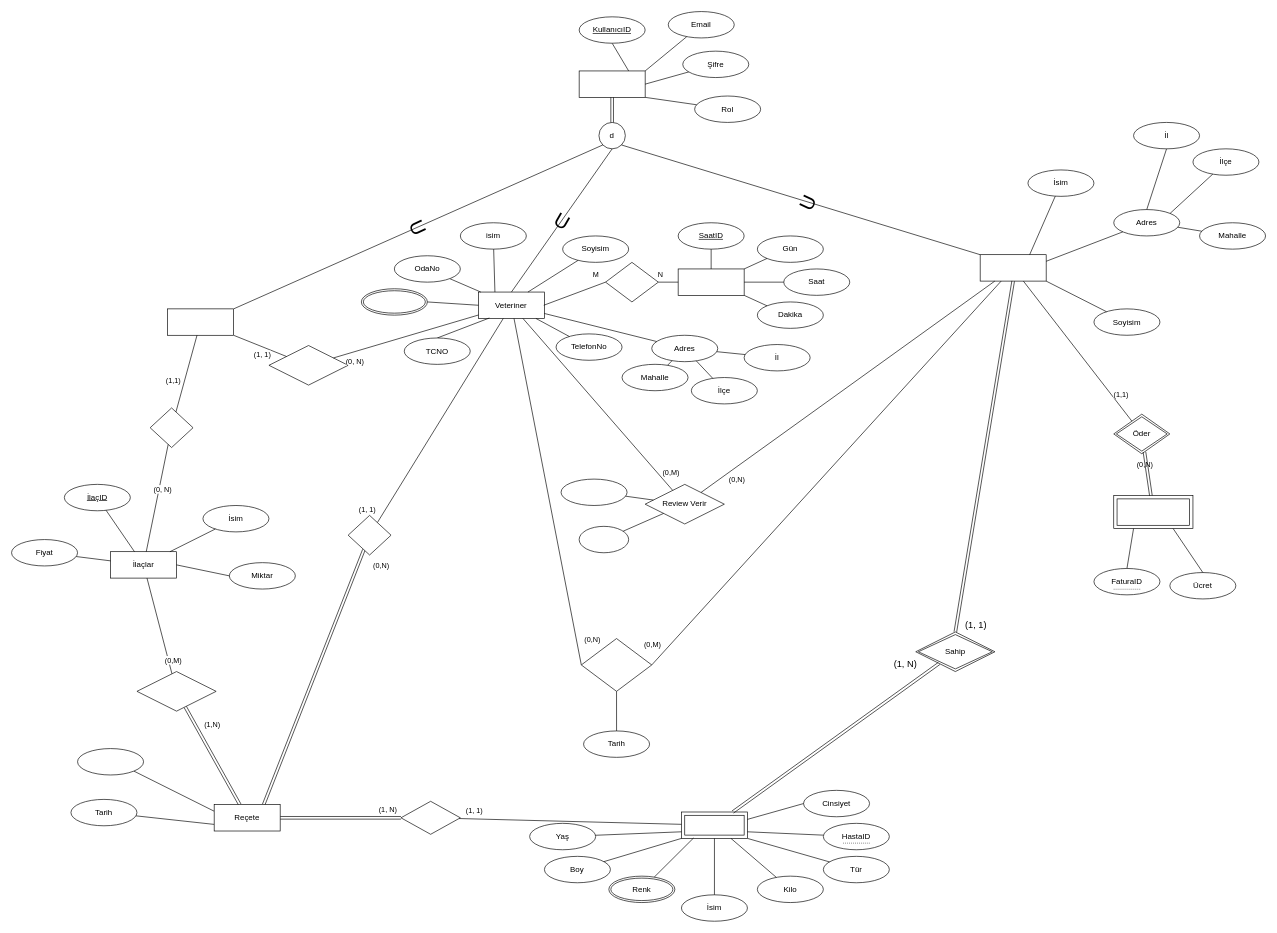
This 1277x933 diagram has some shape labels left out. Each missing label, with the centre of its shape:
Admin: (x=200, y=321)
Açıklama: (x=603, y=539)
Ekler: (x=308, y=365)
Hasta Hayvan: (x=714, y=824)
Hayvan Sahibi: (x=1013, y=267)
İlaç Alır: (x=171, y=427)
İçerir: (x=176, y=691)
Kullanıcı: (x=611, y=83)
Muayene Faturası: (x=1153, y=512)
Puan: (x=593, y=491)
Randevu: (x=616, y=664)
ReçeteID: (x=110, y=761)
Saatler: (x=710, y=281)
Uygundur: (x=631, y=282)
Var: (x=430, y=817)
Yazar: (x=369, y=535)
Yetkinlik: (x=394, y=301)
